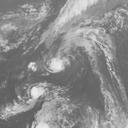cyclone: (39, 49, 71, 76), (26, 81, 53, 105)
